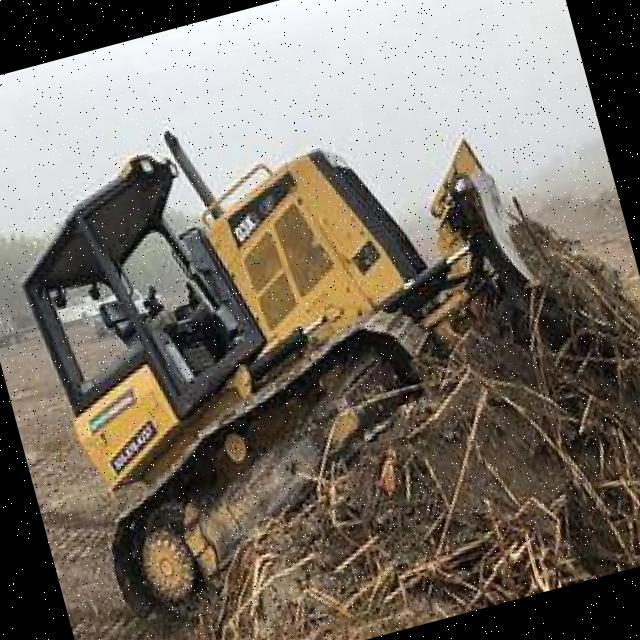Bulldozer: (0, 43, 599, 619)
